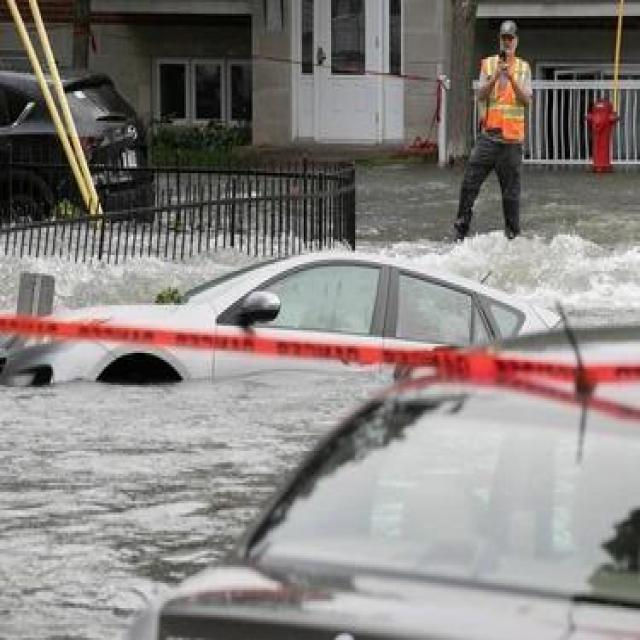water: (0, 377, 388, 638), (352, 159, 639, 315), (3, 252, 273, 305), (0, 252, 14, 322)
